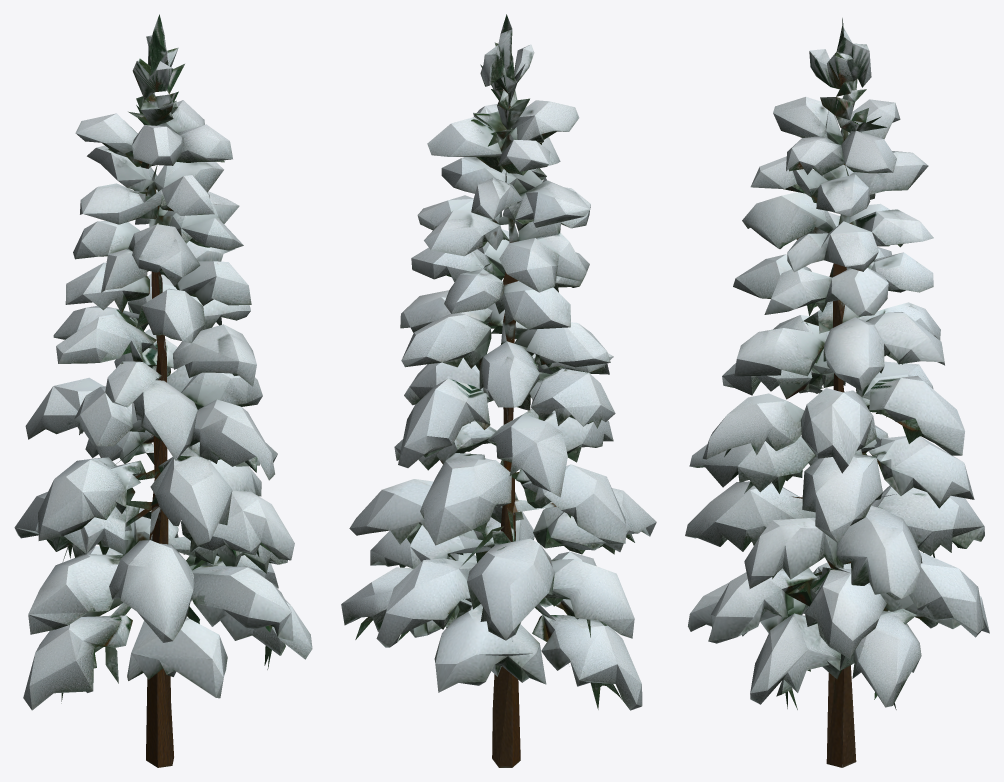
The model's file is snow_pine.glb.
3 renders of one model, left to right at view 1: azimuth 30°, elevation 25°; view 2: azimuth 150°, elevation 25°; view 3: azimuth 270°, elevation 25°, orthographic.
Bounding box in the file's own units: 0.7112 × 1.86 × 0.6858.
Materials: 1 (1 with a texture image).
